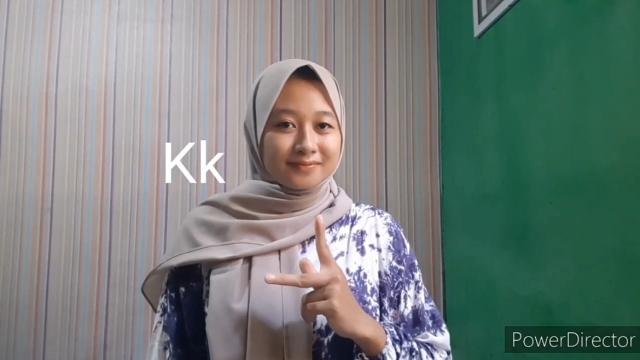K: (266, 216, 364, 342)
